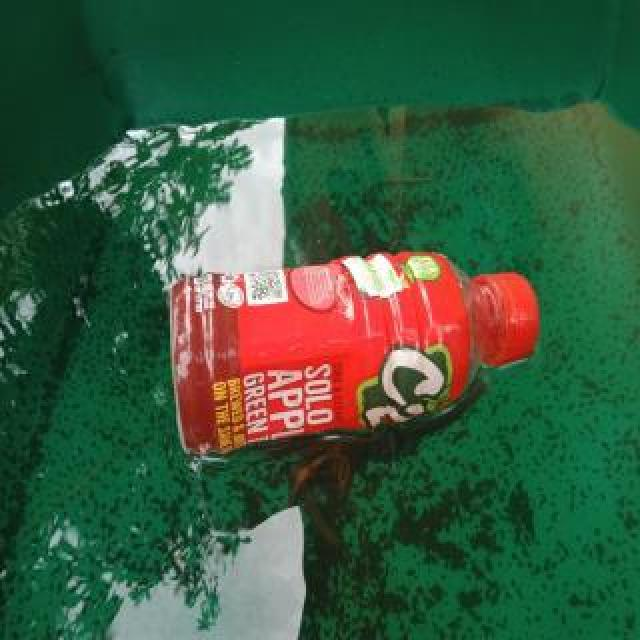bottle: (167, 246, 543, 458)
